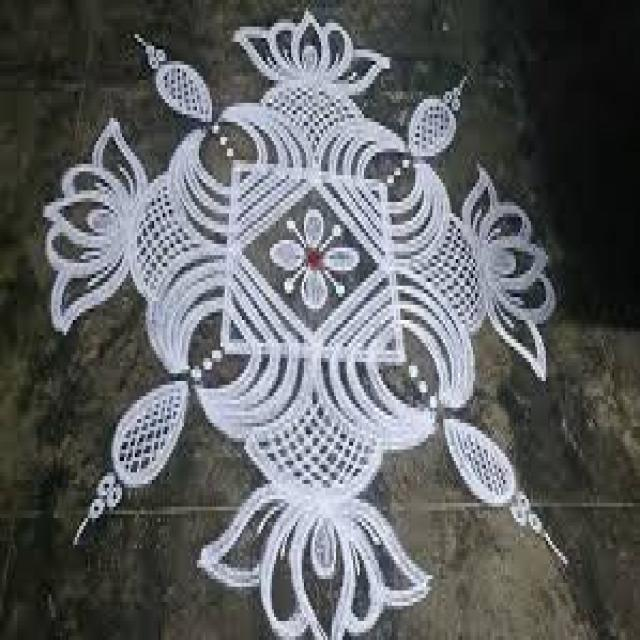rangoli: (38, 0, 571, 640)
